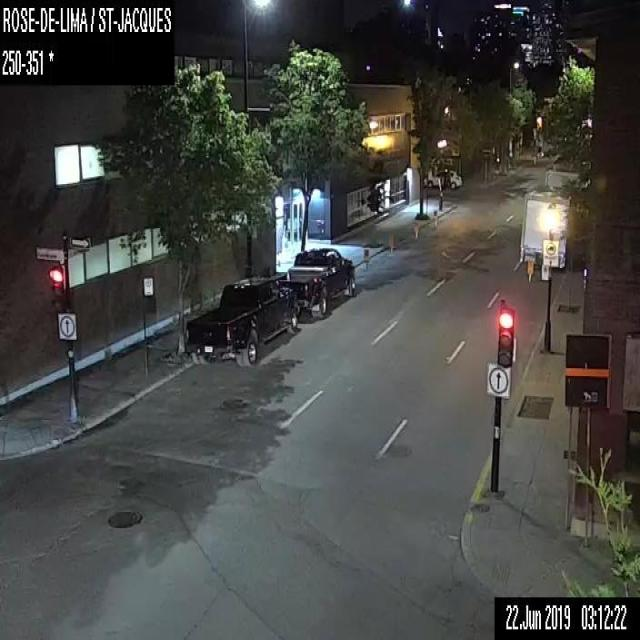construction: (525, 261, 534, 283), (387, 233, 394, 258), (362, 246, 370, 266), (413, 221, 420, 242), (430, 214, 435, 234)
vehicle: (181, 275, 300, 368), (277, 249, 357, 318), (517, 185, 579, 269), (423, 168, 462, 187)
